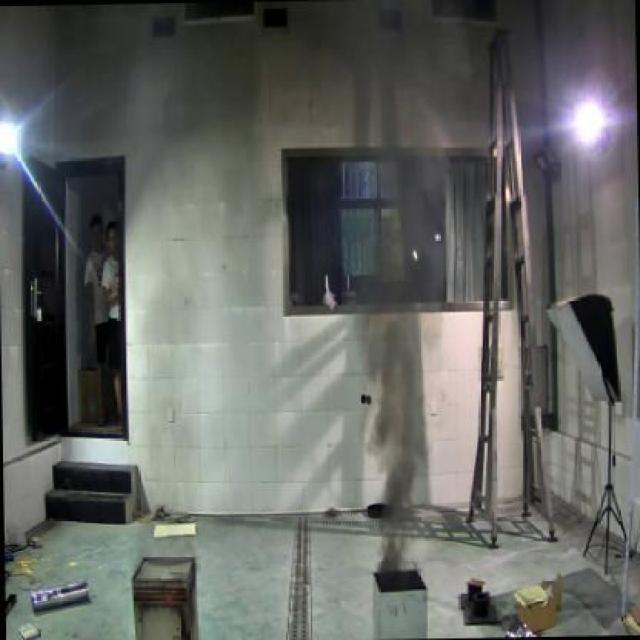fire: (352, 316, 439, 573)
